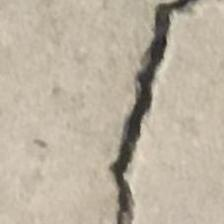Crack: (109, 0, 202, 224)
